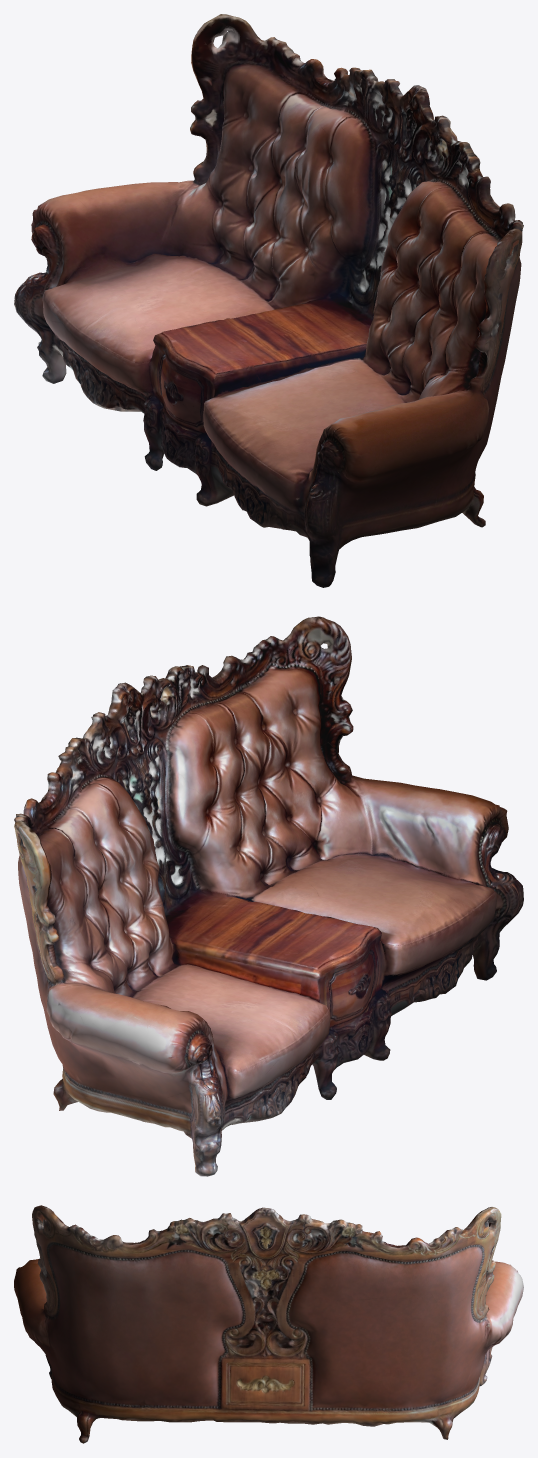
The model's file is cadeira.glb.
3 renders of one model, top to bottom at view 1: azimuth 30°, elevation 25°; view 2: azimuth 150°, elevation 25°; view 3: azimuth 270°, elevation 25°, orthographic. The views are drawn at different scales.
Parts seen in each view (by area): view 1: ObjectCapture; view 2: ObjectCapture; view 3: ObjectCapture.
Part boxes in pixels (x1,y1,x2,y2): ObjectCapture: [14, 14, 523, 587]; ObjectCapture: [14, 616, 523, 1176]; ObjectCapture: [14, 1205, 523, 1443].
Bounding box in the file's own units: 0.919 × 1.12 × 1.97.
Materials: 1 (1 with a texture image).
